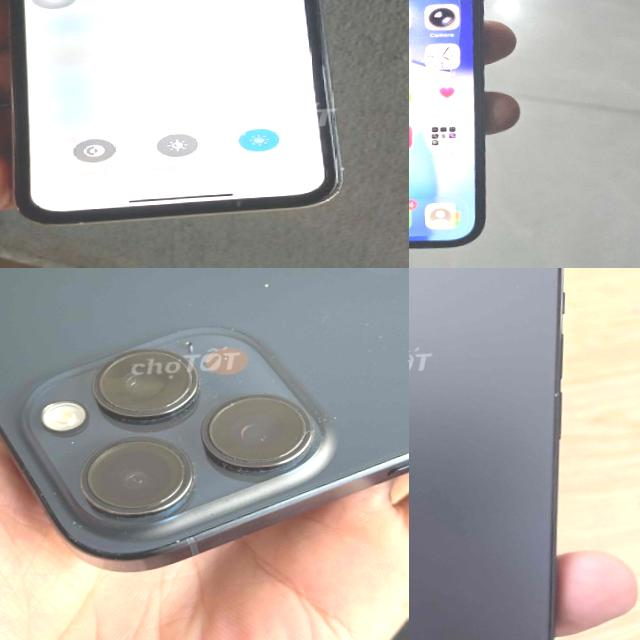scratch: (344, 310, 409, 372), (258, 280, 275, 290)
